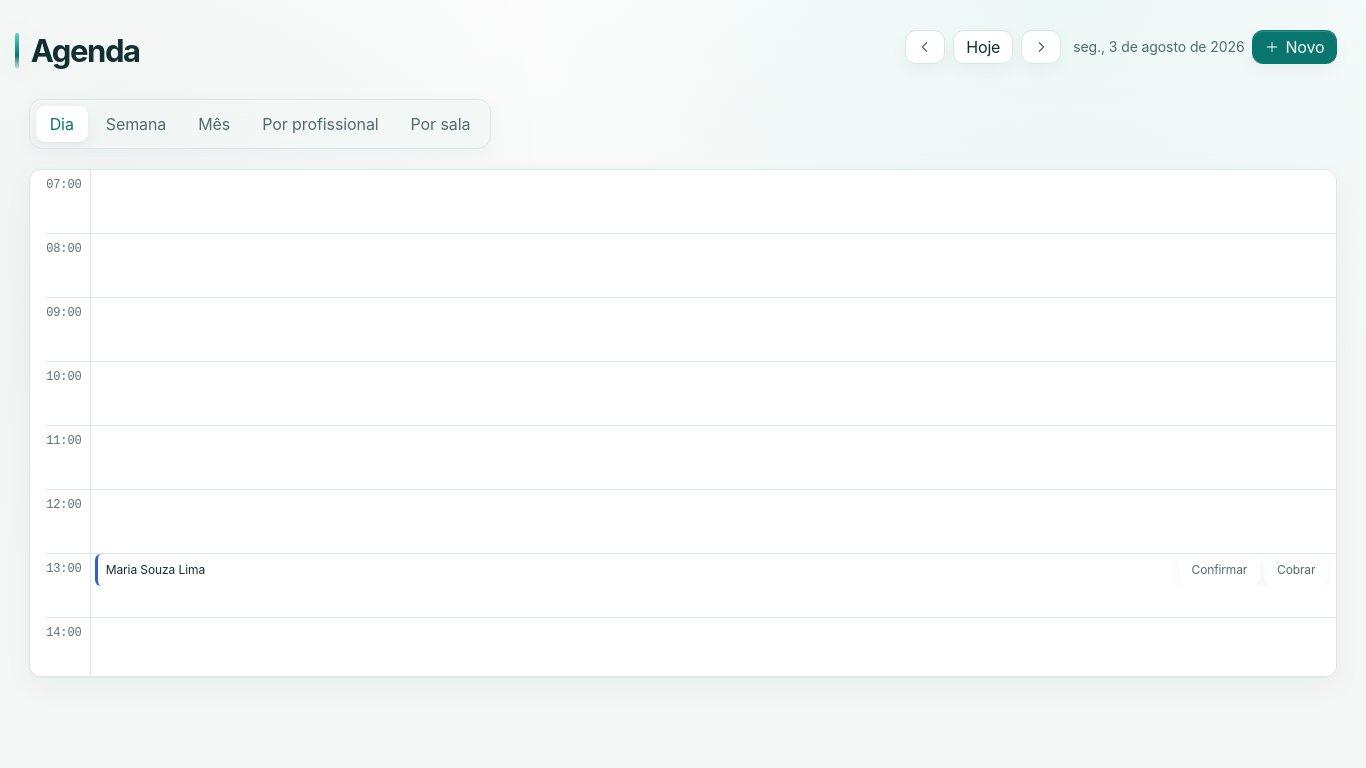
Test case: tela Agenda › abre contexto do paciente sem sair da agenda
Click the button with aria-label "Abrir detalhes de Maria Souza Lima" at (155, 569), box x1=106 y1=562 x2=205 y2=576
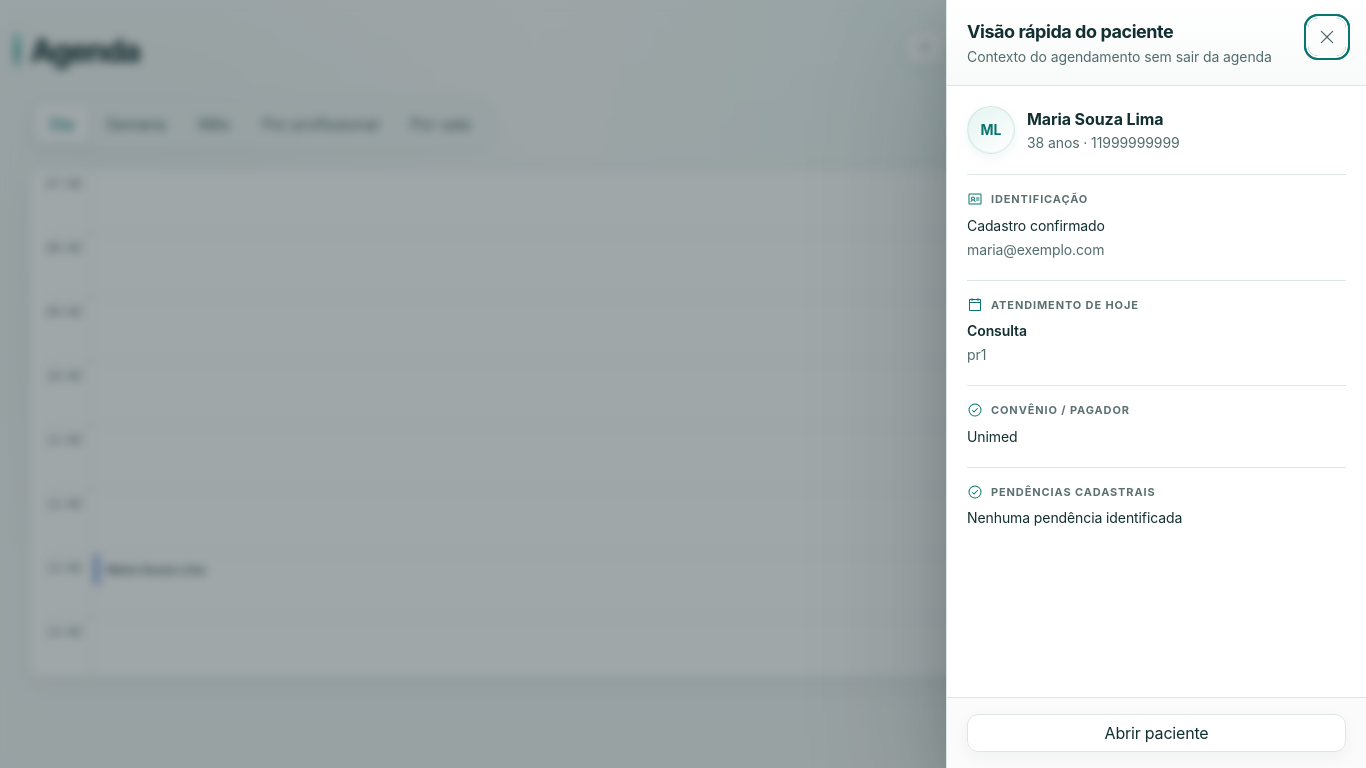
Expected: the dialog "Visão rápida do paciente" is shown, x1=946 y1=0 x2=1365 y2=767
